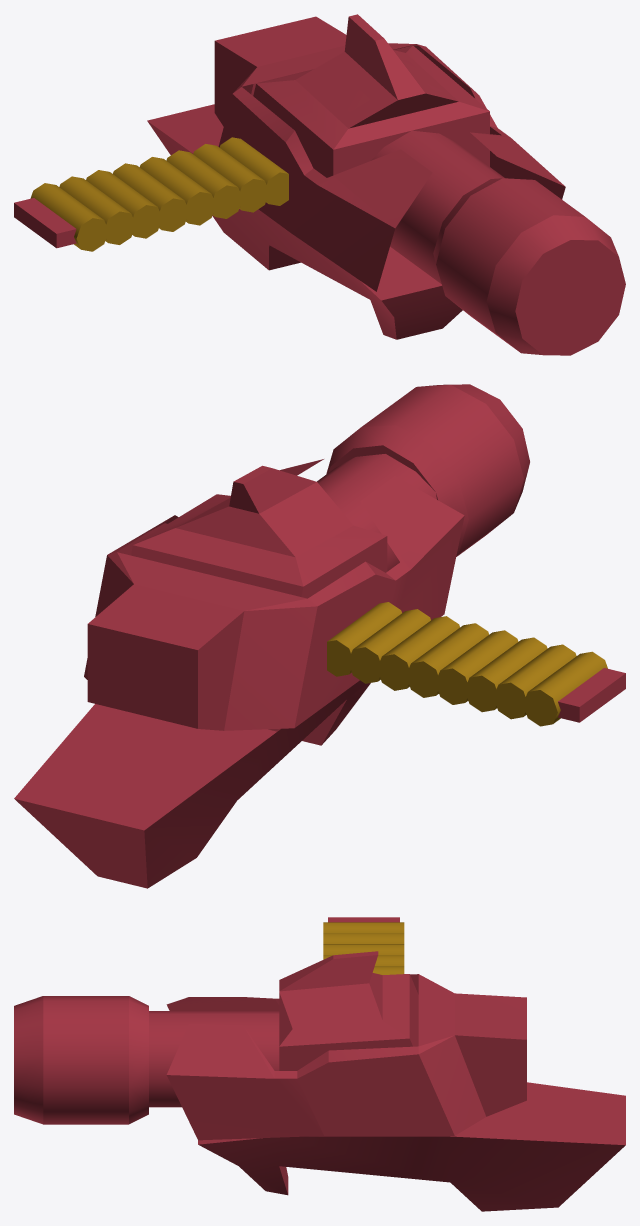
Rendered from Scattergun LV1.obj.
3 views of the same model, one above another, from view 1: azimuth 30°, elevation 25°; view 2: azimuth 150°, elevation 25°; view 3: azimuth 270°, elevation 25° (orthographic). The views are drawn at different scales.
Parts seen in each view (by area): view 1: Scattergun_LV1_Mesh_0218.001; view 2: Scattergun_LV1_Mesh_0218.001; view 3: Scattergun_LV1_Mesh_0218.001.
Part boxes in pixels (left/top/right/bottom): Scattergun_LV1_Mesh_0218.001: left=14, top=14, right=625, bottom=355; Scattergun_LV1_Mesh_0218.001: left=14, top=384, right=625, bottom=888; Scattergun_LV1_Mesh_0218.001: left=14, top=917, right=625, bottom=1211.
Size of the model in its own units: 1.38 by 0.9184 by 2.05.
